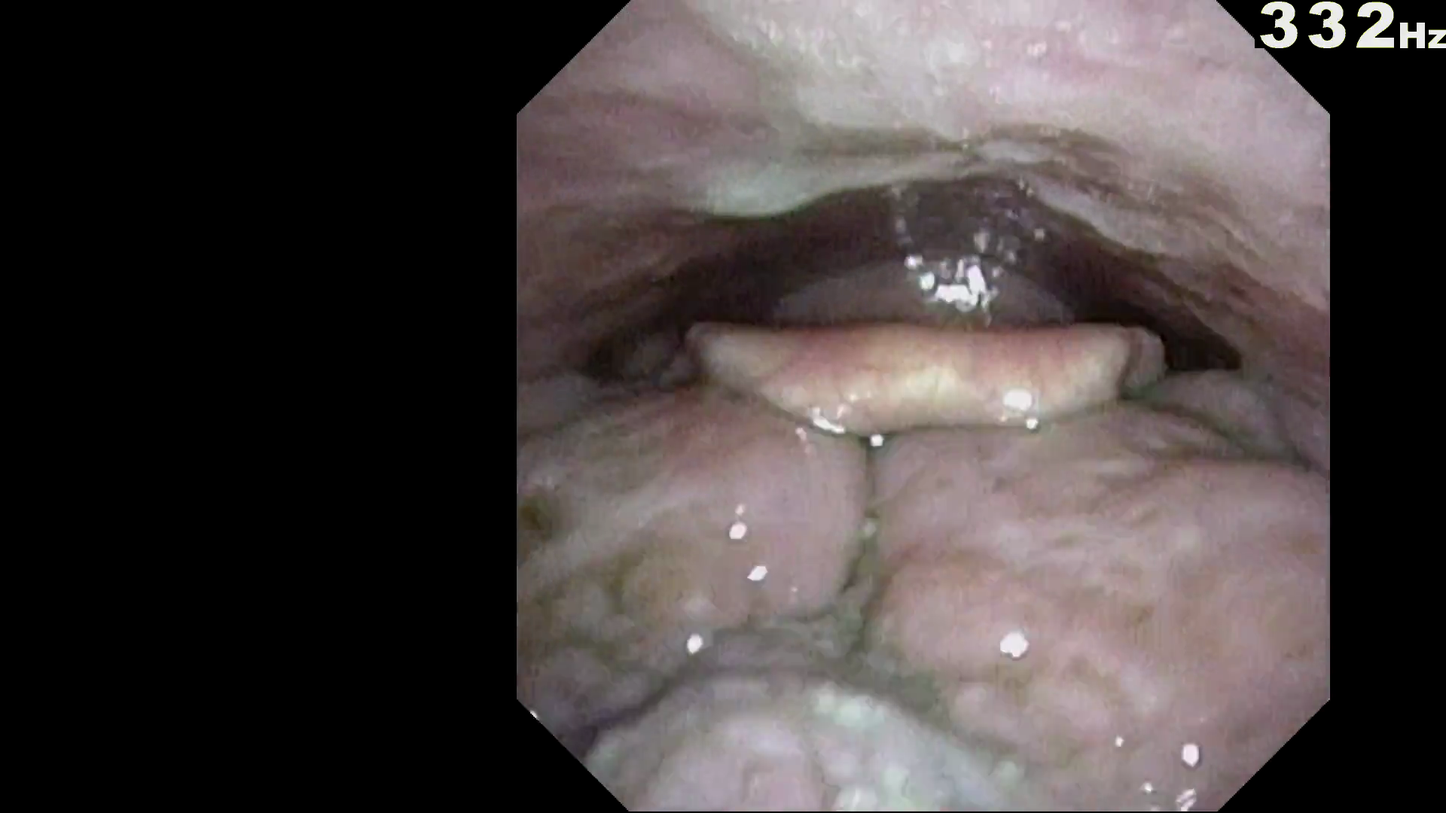epiglottis: (613, 445, 1192, 590)
trachea: (845, 414, 1005, 486)
